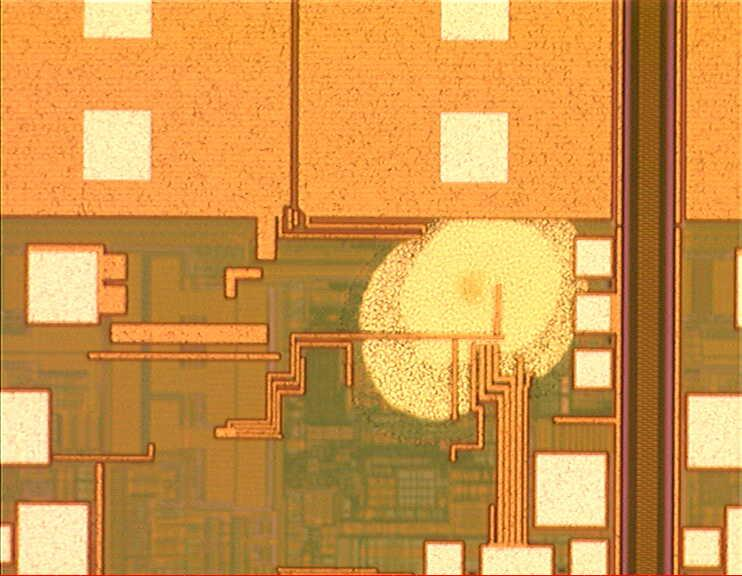BLOCK ETCH: (338, 186, 607, 452)
